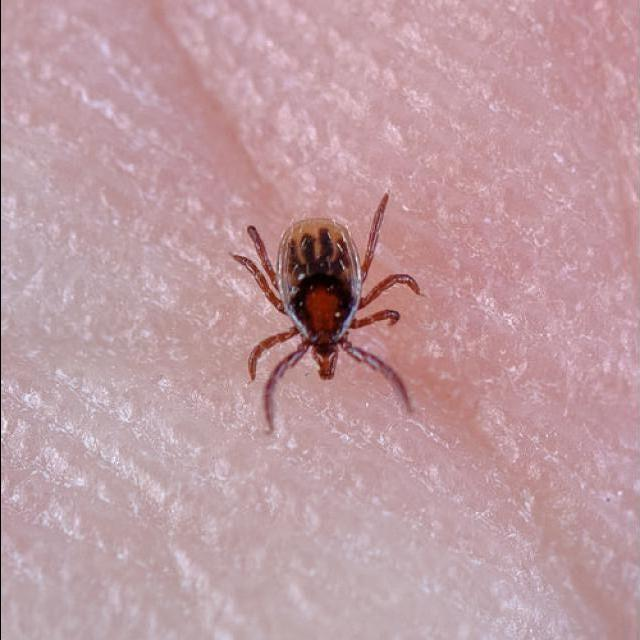Ixodes Ricinus-M: (238, 210, 417, 429)
